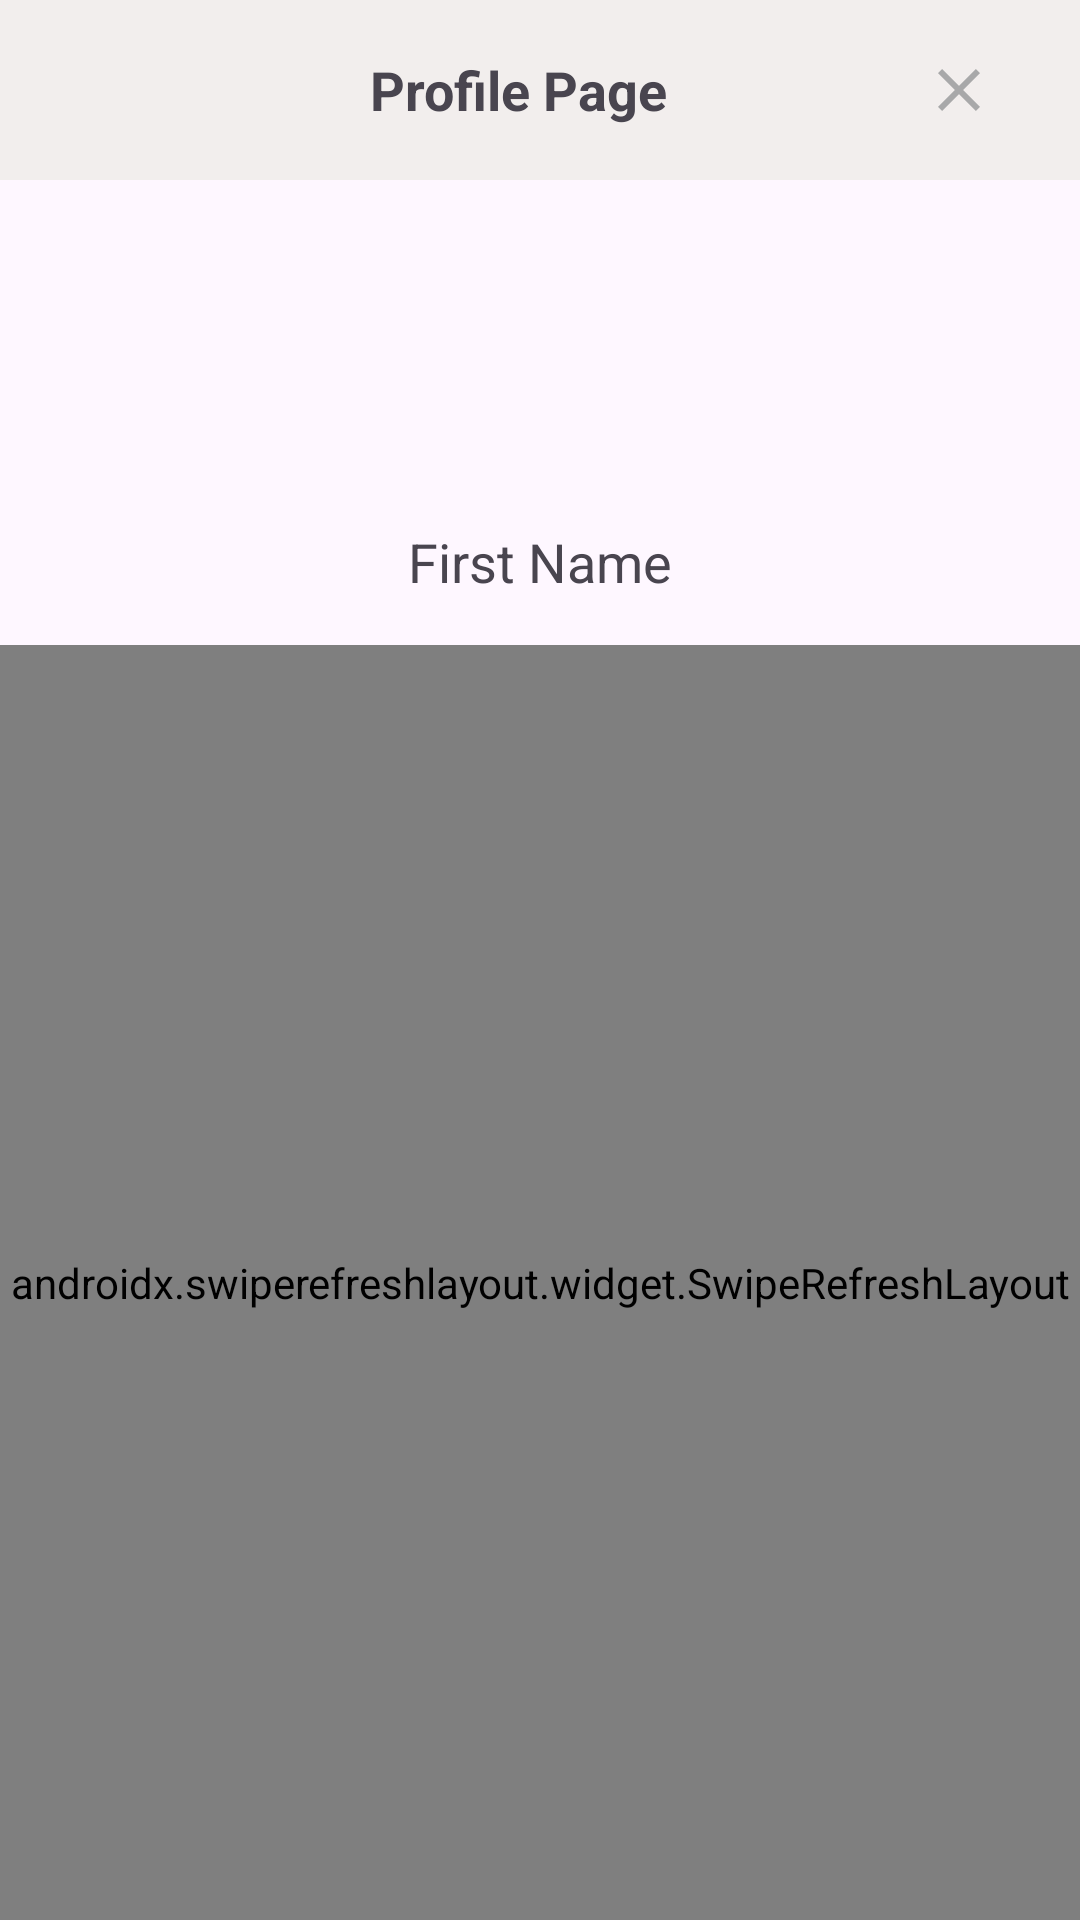

Screen size 1080px×1920px. Icon name, then its box in pixels as (x1, y1, x2, y2):
close tag: (938, 69, 980, 111)
